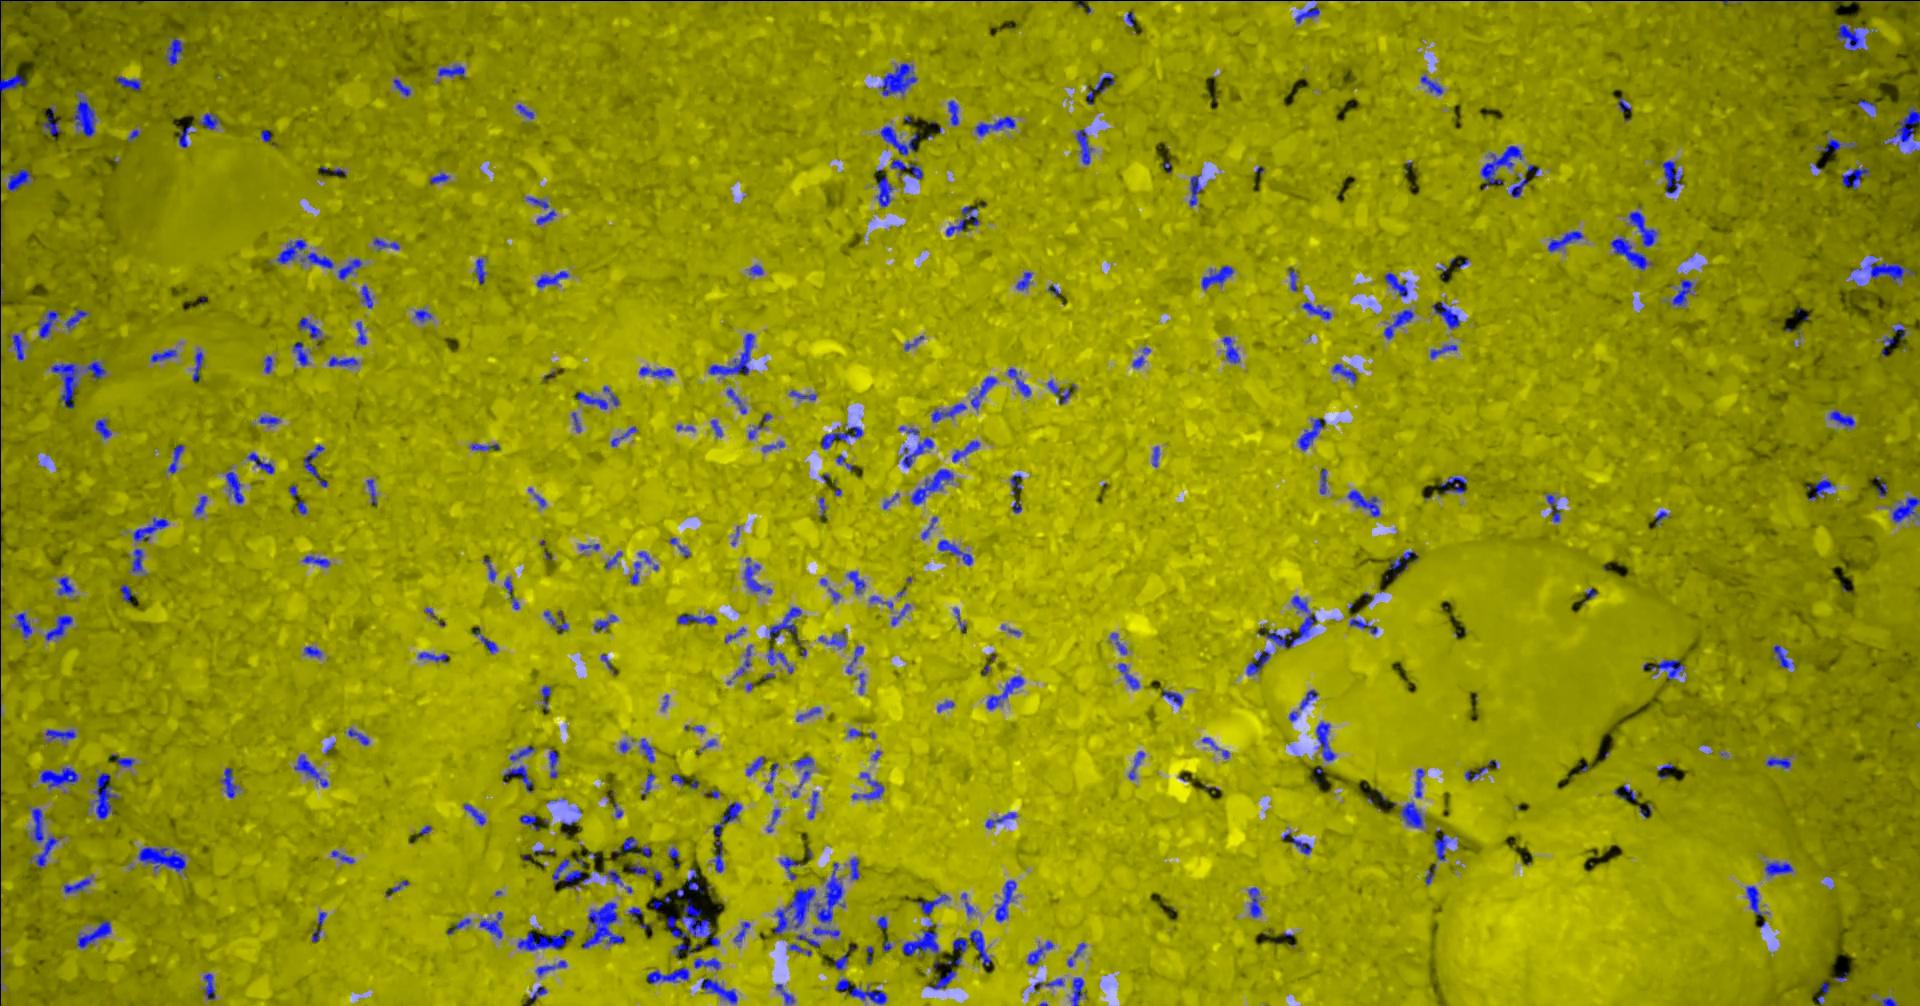ant: (668, 897, 721, 955), (1267, 594, 1319, 648), (714, 801, 743, 873), (710, 332, 756, 373), (583, 902, 625, 948), (949, 929, 993, 970), (1482, 145, 1524, 188), (1853, 254, 1916, 282), (32, 807, 58, 868), (912, 467, 954, 504), (1, 62, 29, 117), (1884, 105, 1920, 145), (91, 772, 121, 819), (837, 978, 888, 1005), (52, 362, 81, 408), (988, 674, 1025, 709), (138, 846, 187, 871), (880, 64, 918, 95), (1611, 238, 1650, 269), (519, 929, 575, 950), (903, 923, 940, 955), (881, 124, 919, 155), (552, 857, 592, 887), (770, 606, 803, 640), (296, 754, 329, 788), (947, 205, 982, 235), (74, 91, 97, 136), (305, 445, 329, 486), (902, 437, 935, 467), (1630, 211, 1658, 246), (745, 558, 773, 593), (702, 978, 739, 1005), (822, 426, 863, 448), (77, 920, 112, 948), (938, 539, 974, 565), (971, 376, 999, 409), (1299, 417, 1327, 450), (1, 0, 46, 20), (1385, 309, 1415, 339), (1088, 71, 1115, 104), (1349, 489, 1382, 516), (135, 517, 170, 541), (1644, 659, 1686, 680), (853, 772, 885, 799), (977, 116, 1017, 136), (997, 880, 1017, 921), (1837, 22, 1867, 50), (505, 765, 535, 793), (1317, 721, 1337, 761), (1203, 265, 1236, 290), (41, 767, 79, 788), (577, 391, 620, 409), (277, 239, 309, 263), (46, 614, 74, 640), (1432, 302, 1462, 328), (1549, 230, 1583, 251), (891, 158, 924, 179), (1747, 885, 1770, 916), (648, 967, 690, 983), (932, 403, 968, 422), (1893, 495, 1920, 521), (768, 647, 794, 673), (1029, 940, 1055, 965), (1663, 160, 1684, 193), (795, 754, 815, 788), (1465, 760, 1498, 780), (918, 894, 951, 915), (952, 439, 982, 462), (475, 626, 499, 653), (1401, 801, 1425, 828), (1843, 166, 1870, 189), (1010, 368, 1032, 396), (1077, 128, 1095, 164), (735, 644, 754, 677), (1048, 379, 1072, 404), (9, 168, 36, 191), (481, 911, 504, 937), (226, 471, 245, 503), (1808, 479, 1836, 500), (1389, 551, 1418, 572), (1385, 272, 1410, 296), (1248, 650, 1272, 674), (1119, 663, 1142, 688), (41, 310, 61, 338), (248, 452, 276, 473), (43, 105, 62, 135), (300, 316, 324, 339), (1672, 279, 1694, 305), (302, 251, 335, 268), (537, 271, 570, 287), (1303, 301, 1333, 319), (612, 426, 639, 446), (930, 970, 957, 989), (987, 812, 1018, 828), (339, 258, 363, 279), (545, 610, 569, 631), (1818, 138, 1859, 151), (728, 387, 748, 413), (877, 175, 894, 206), (168, 37, 185, 65), (66, 307, 89, 329), (1774, 644, 1796, 667), (465, 803, 488, 824), (847, 647, 865, 673), (781, 857, 803, 879), (222, 767, 237, 798), (537, 960, 568, 976), (169, 445, 185, 473), (1129, 751, 1145, 779), (65, 876, 93, 893), (1297, 4, 1321, 23), (1333, 363, 1357, 382), (640, 366, 676, 379), (1224, 337, 1241, 363), (1435, 833, 1451, 860), (1422, 75, 1445, 94), (679, 614, 717, 625), (1069, 942, 1087, 967), (1547, 494, 1562, 522), (766, 762, 780, 793), (1766, 861, 1794, 876), (86, 358, 107, 379), (891, 603, 910, 625), (1512, 174, 1530, 197), (848, 570, 866, 593), (820, 633, 847, 648), (295, 340, 311, 365), (1443, 476, 1467, 493), (17, 612, 33, 636), (1351, 619, 1379, 633), (1072, 977, 1086, 1005), (1190, 174, 1203, 205), (1831, 410, 1857, 426), (1250, 887, 1262, 917), (201, 112, 222, 130), (1134, 345, 1152, 367), (349, 728, 371, 746), (777, 983, 795, 1005), (179, 124, 196, 147), (596, 614, 618, 630), (439, 64, 466, 77), (1431, 344, 1458, 358), (641, 738, 657, 762), (688, 868, 703, 892), (748, 756, 767, 775), (1163, 688, 1183, 706), (1302, 688, 1319, 709), (1291, 837, 1313, 854), (117, 76, 142, 90), (510, 746, 536, 760), (695, 956, 723, 969), (923, 516, 938, 539), (47, 729, 77, 741), (1035, 978, 1065, 989), (394, 77, 411, 97), (375, 238, 401, 250), (58, 575, 76, 594), (797, 708, 822, 721), (768, 808, 782, 832), (331, 848, 356, 862), (789, 942, 813, 956), (97, 418, 113, 438), (1112, 633, 1128, 654), (1615, 784, 1637, 799), (735, 921, 750, 942), (527, 986, 549, 1001), (13, 334, 25, 359), (194, 349, 204, 381), (152, 349, 178, 362), (204, 973, 217, 998), (303, 555, 331, 567), (809, 790, 820, 818), (963, 892, 977, 915), (330, 356, 361, 366), (1768, 756, 1792, 768), (797, 934, 822, 946), (643, 772, 657, 794), (420, 652, 450, 662), (837, 453, 855, 470), (606, 551, 623, 568), (833, 951, 850, 969), (521, 814, 540, 829), (477, 257, 488, 285), (726, 627, 747, 641), (550, 749, 560, 777), (1416, 768, 1426, 796), (949, 100, 960, 124), (528, 196, 550, 208), (114, 754, 136, 767), (791, 390, 818, 400), (368, 479, 378, 506), (122, 583, 137, 601), (814, 926, 841, 936), (538, 210, 557, 224), (1018, 271, 1032, 290), (363, 285, 375, 307), (357, 321, 368, 344), (763, 441, 786, 452), (485, 558, 497, 580), (631, 561, 643, 584), (517, 104, 535, 118), (1012, 474, 1023, 495), (133, 547, 143, 572), (1877, 476, 1890, 495), (196, 495, 208, 514), (430, 171, 451, 183), (417, 309, 433, 323), (1895, 323, 1909, 339), (607, 870, 623, 884), (851, 857, 861, 879), (1859, 99, 1878, 111), (1883, 337, 1895, 356), (543, 685, 552, 709), (1619, 97, 1633, 112), (938, 700, 955, 713), (1290, 268, 1299, 291), (630, 906, 644, 920), (1321, 467, 1328, 493), (623, 837, 639, 850), (712, 419, 724, 436), (472, 443, 502, 450), (260, 417, 281, 426), (631, 864, 649, 874), (265, 354, 274, 373), (306, 647, 323, 657), (877, 915, 888, 931), (750, 264, 764, 276), (1153, 446, 1161, 466), (1787, 0, 1863, 1), (97, 0, 147, 1)
